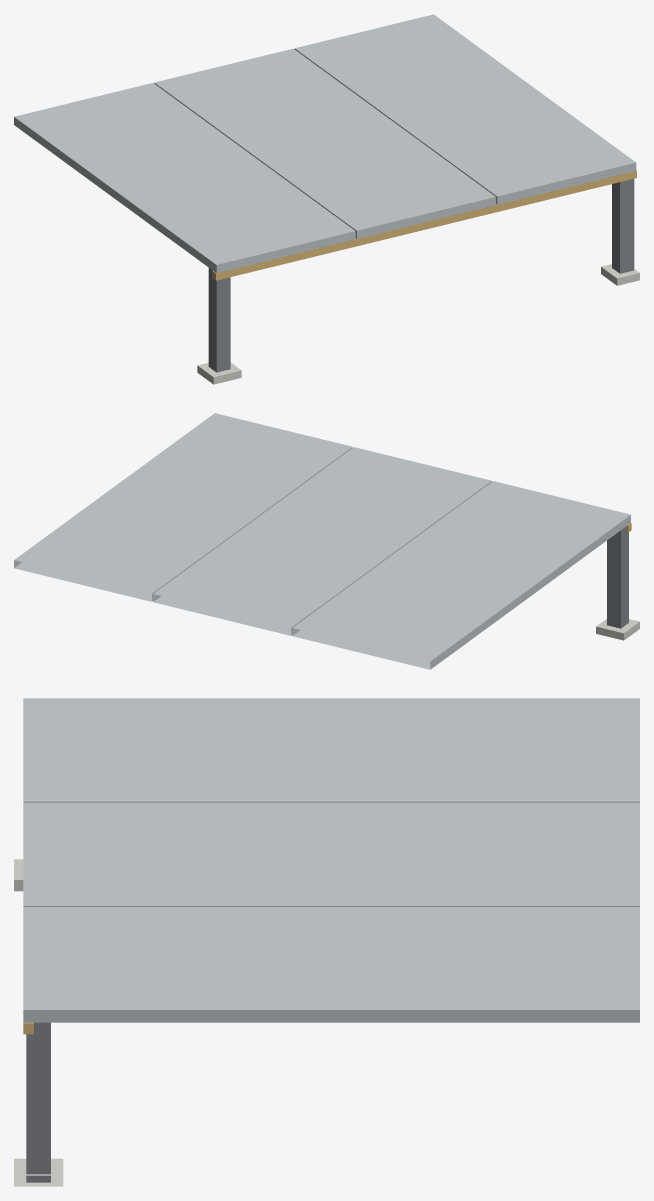
Rendered from lunar-0-1.glb.
3 views of the same model, one above another, from view 1: azimuth 30°, elevation 25°; view 2: azimuth 150°, elevation 25°; view 3: azimuth 270°, elevation 25° (orthographic). The views are drawn at different scales.
Parts seen in each view (by area): view 1: lunar-0-1; view 2: lunar-0-1; view 3: lunar-0-1.
Part boxes in pixels (x1,y1,x2,y2): lunar-0-1: [14, 14, 639, 384]; lunar-0-1: [14, 413, 639, 669]; lunar-0-1: [14, 698, 639, 1186].
Size of the model in its own units: 48.6 by 12.63 by 40.6.
